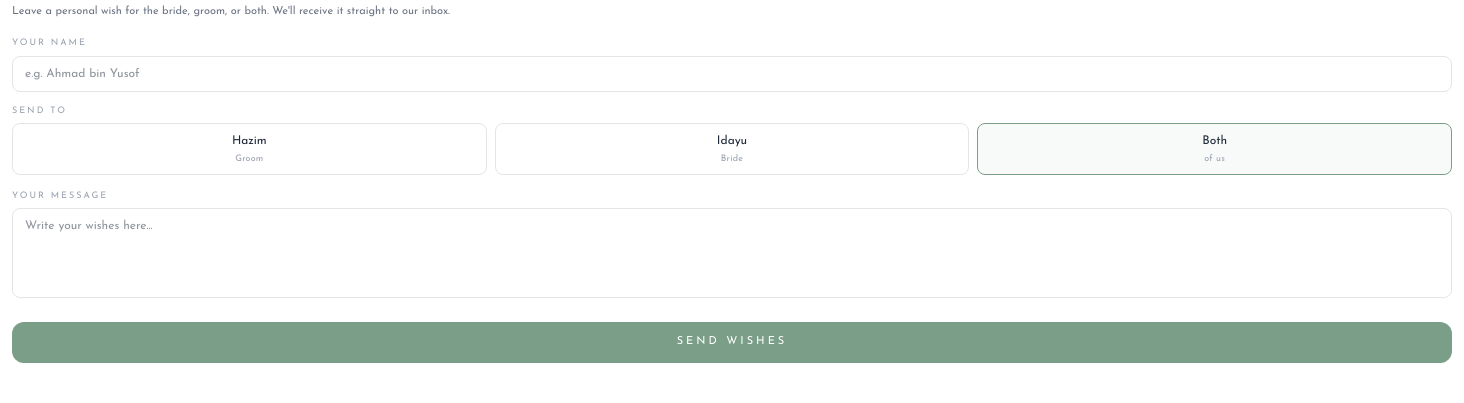
Test: MessageForm › shows error state on failed submission
Type "Ali" into the field with placeholder "e.g. Ahmad bin Yusof".
click(732, 74); type("Ali")  # box [12,56,1452,92]
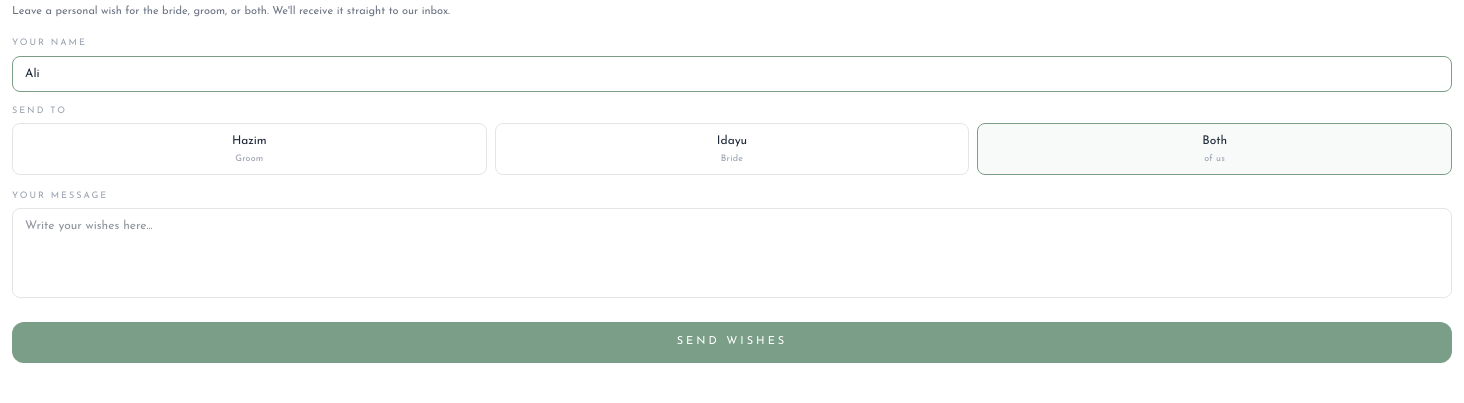
Type "Congratulations!" into the text box with placeholder "Write your wishes here...".
click(732, 253); type("Congratulations!")  # box [12,208,1452,298]
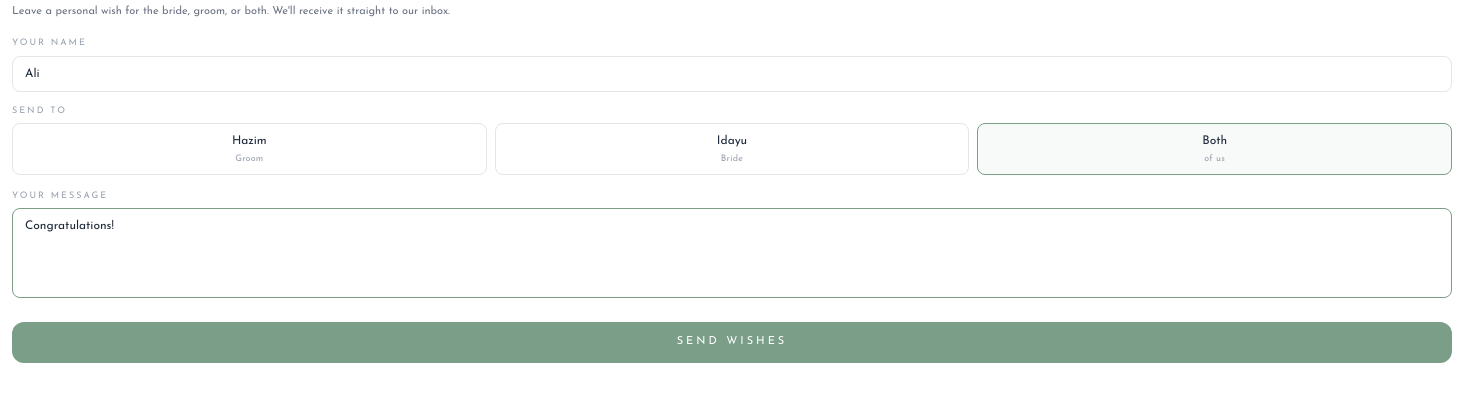
Click the button "Send Wishes".
click(732, 342)  # box [12,322,1452,362]
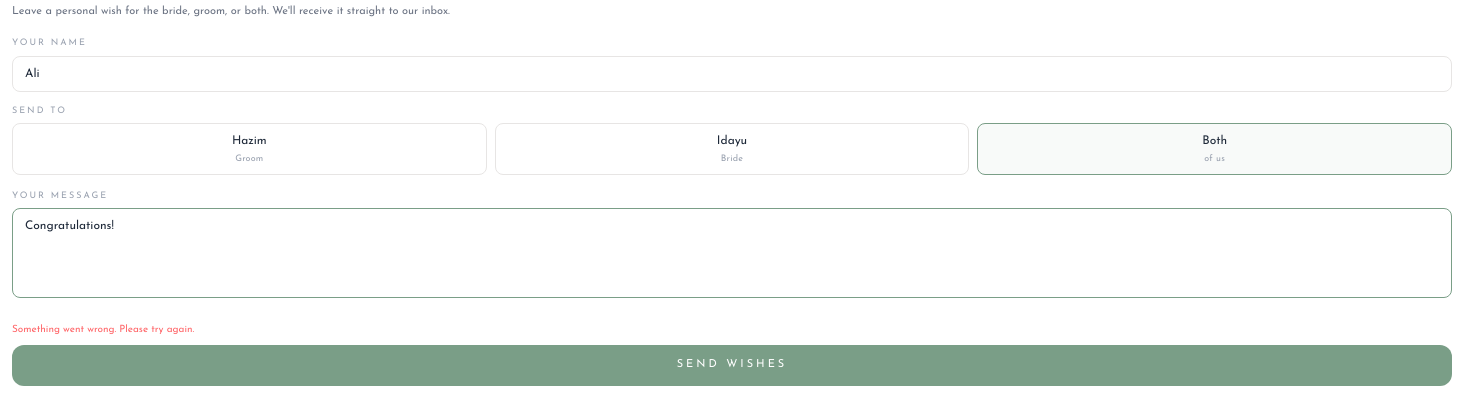
Expected: the button "Send Wishes" is enabled, [12,345,1452,386]
Now the text "Something went wrong. Please try again." is shown, box [12,324,194,335]
